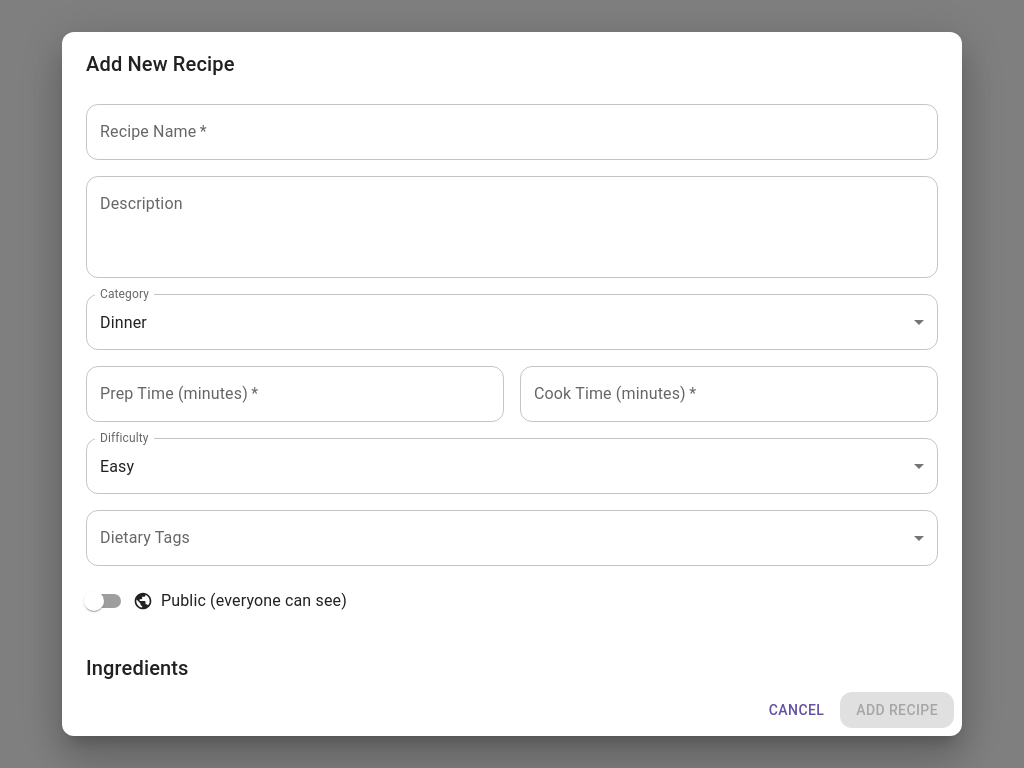
Test: AddRecipeModal › Form Validation › add recipe button is enabled when all required fields are filled
Step 1. Type "Test Recipe" into the field labelled "Recipe Name *" → (512, 132), box [86,104,938,160]
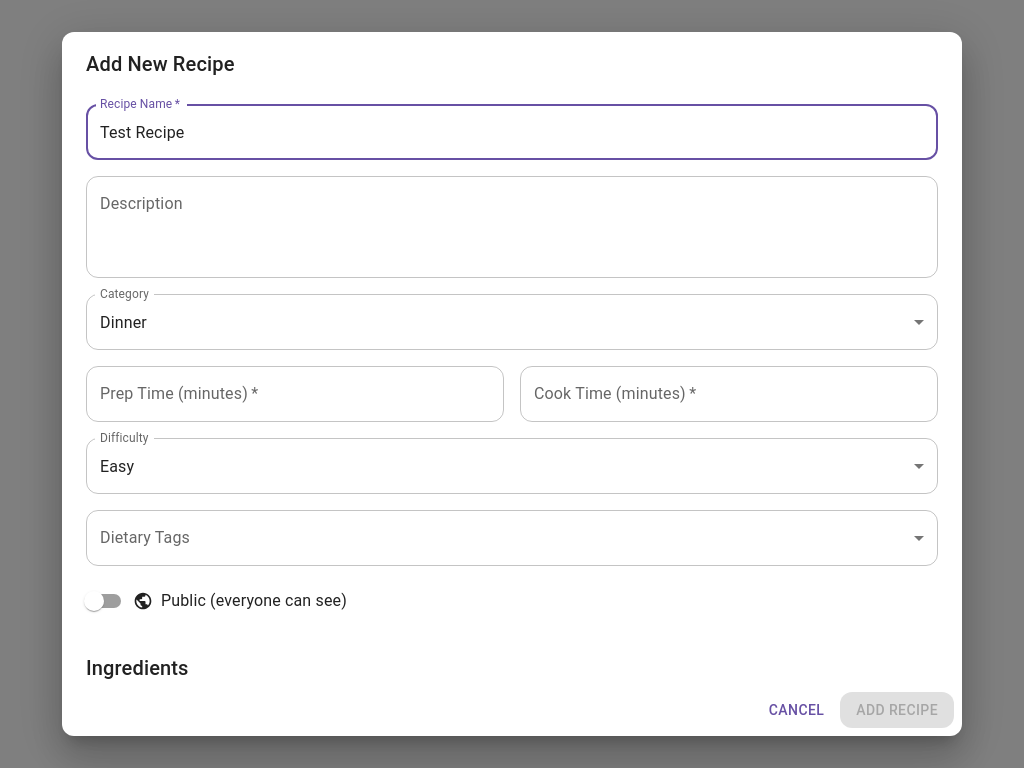
Step 2. Type "15" into the number field labelled "Prep Time (minutes) *" → (295, 394), box [86,366,504,422]
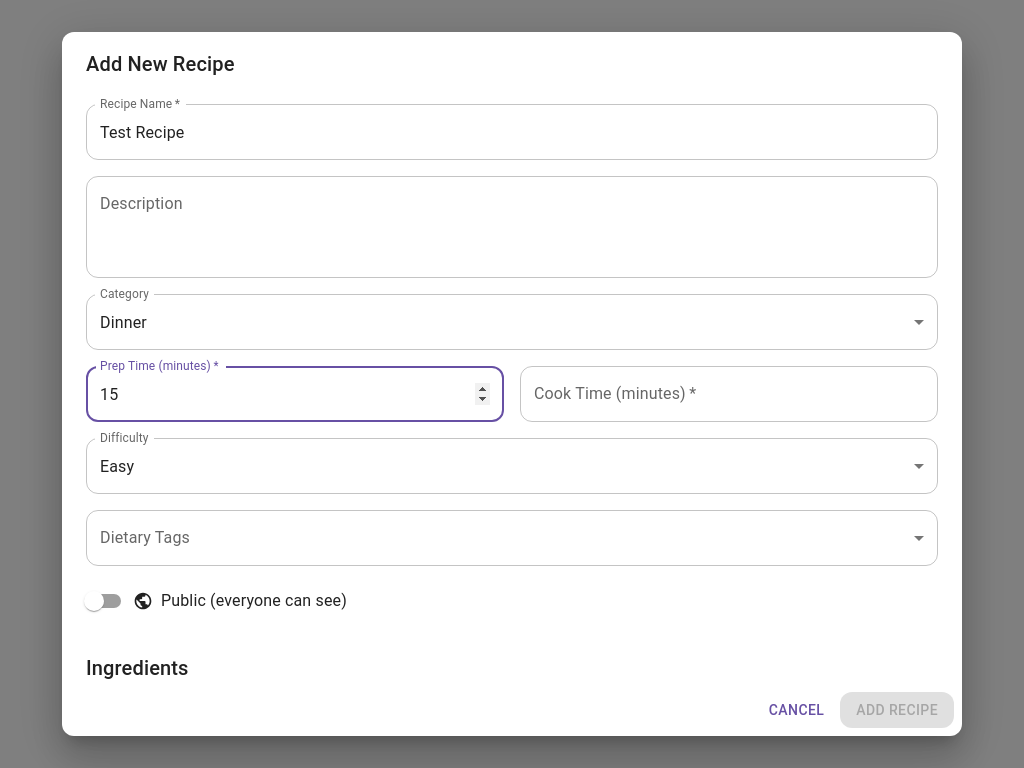
Step 3. Type "30" into the number field labelled "Cook Time (minutes) *" → (729, 394), box [520,366,938,422]
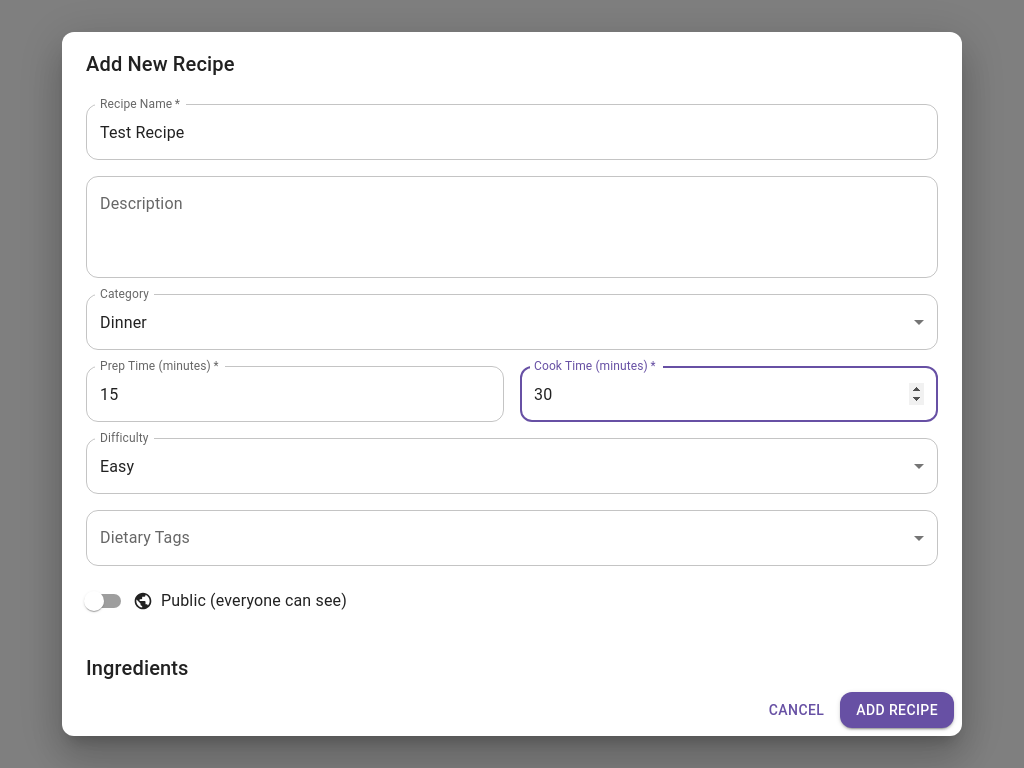
Expected: the button "Add Recipe" is enabled, [840,692,954,728]
